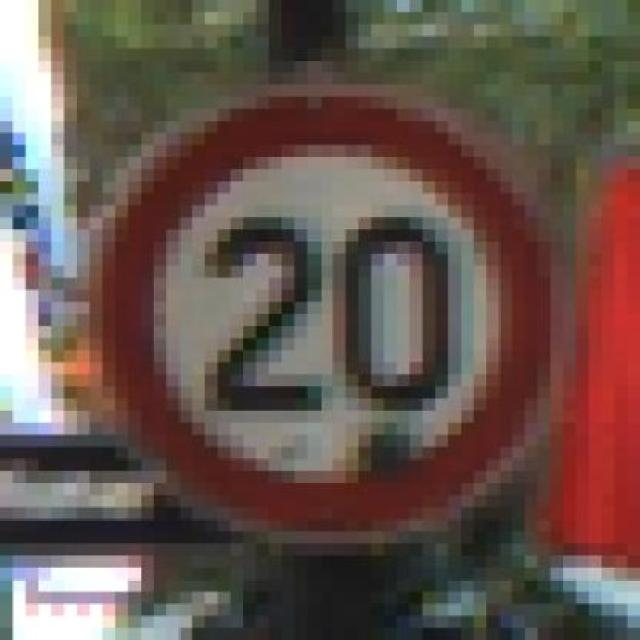forb_speed_over_20: (111, 101, 544, 524)
